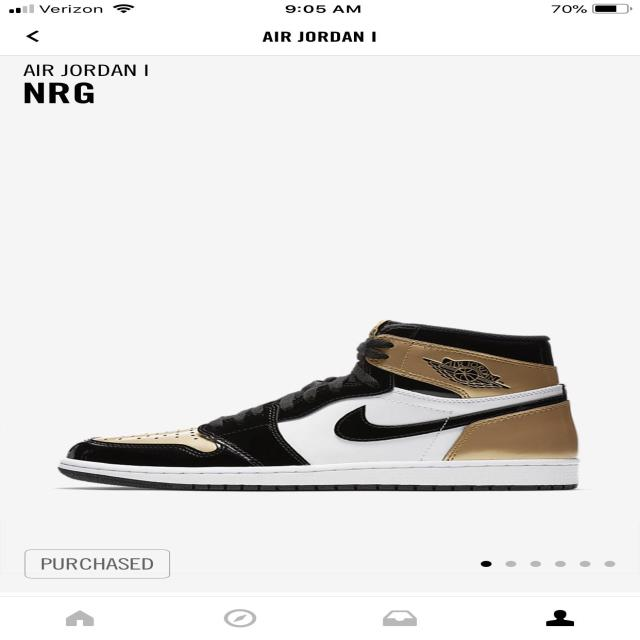shoes: (41, 307, 596, 512)
